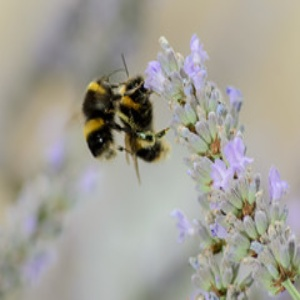bee: (121, 77, 160, 174), (85, 78, 118, 163)
